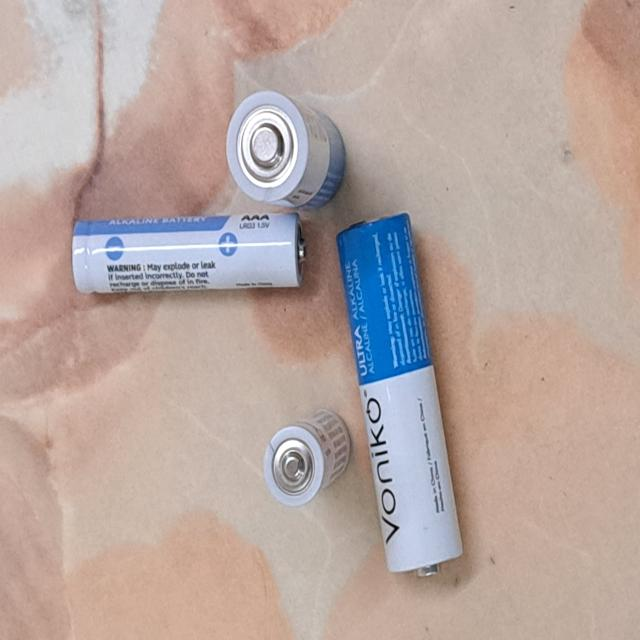battery: (336, 212, 464, 578), (72, 214, 307, 295), (225, 90, 345, 213), (264, 408, 351, 508)
